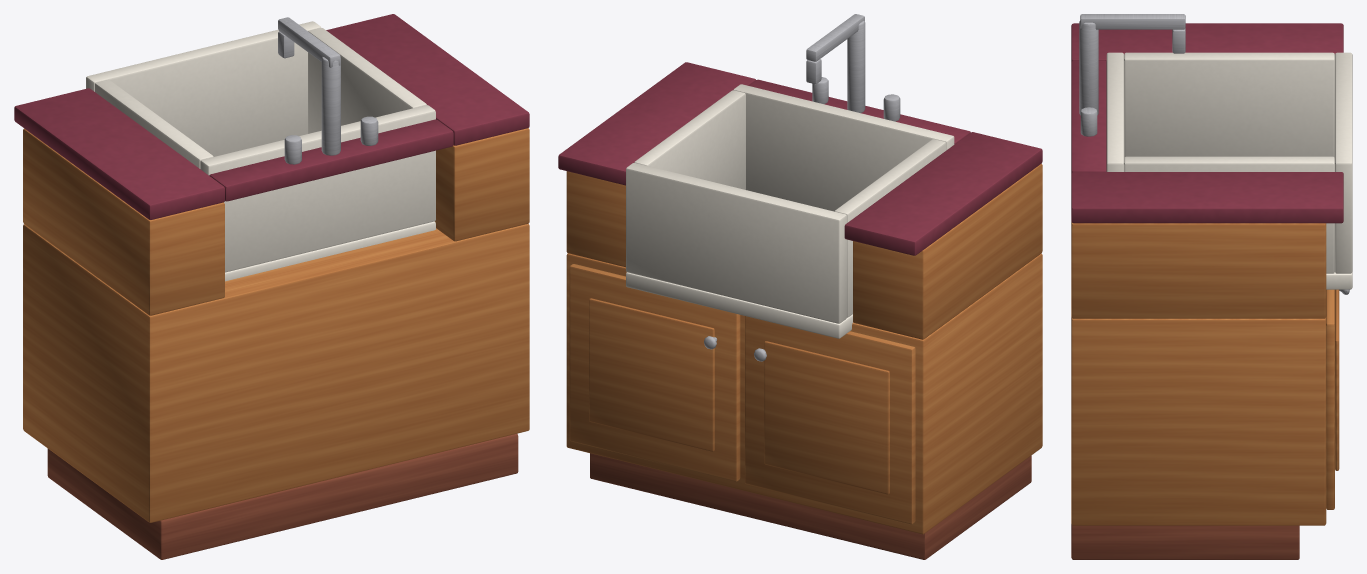
The model's file is SM_Cabinet_Base_Sink_1.fbx.
The picture shows the model from 3 angles, left to right: view 1: azimuth 30°, elevation 25°; view 2: azimuth 150°, elevation 25°; view 3: azimuth 270°, elevation 25°; orthographic projection. The views are drawn at different scales.
Parts seen in each view (by area): view 1: SM_Cabinet_Base_Sink_1; view 2: SM_Cabinet_Base_Sink_1; view 3: SM_Cabinet_Base_Sink_1.
Boxes of the visible parts, x1=… form: SM_Cabinet_Base_Sink_1: x1=14, y1=14, x2=529, y2=559; SM_Cabinet_Base_Sink_1: x1=558, y1=14, x2=1042, y2=559; SM_Cabinet_Base_Sink_1: x1=1071, y1=14, x2=1352, y2=559.
Size of what is drawn, in the model's own units: 1 by 1.15 by 0.64.
Materials: 5 (5 with a texture image).
